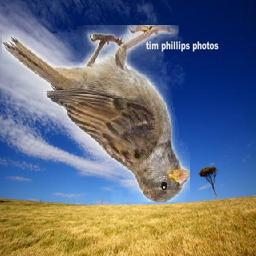Sparrow: (2, 26, 190, 203)
